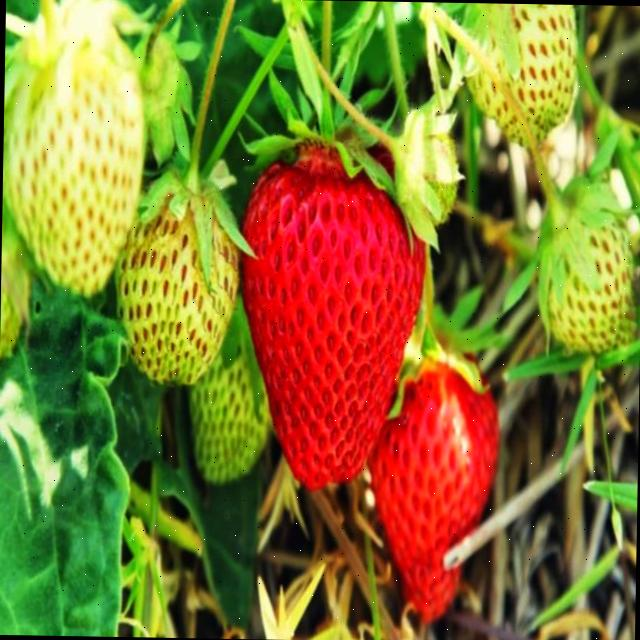strawberry: (236, 142, 426, 488), (2, 19, 148, 296), (366, 340, 501, 626), (113, 186, 241, 386), (187, 296, 276, 488), (541, 181, 638, 349), (499, 3, 577, 128), (394, 114, 460, 226)
